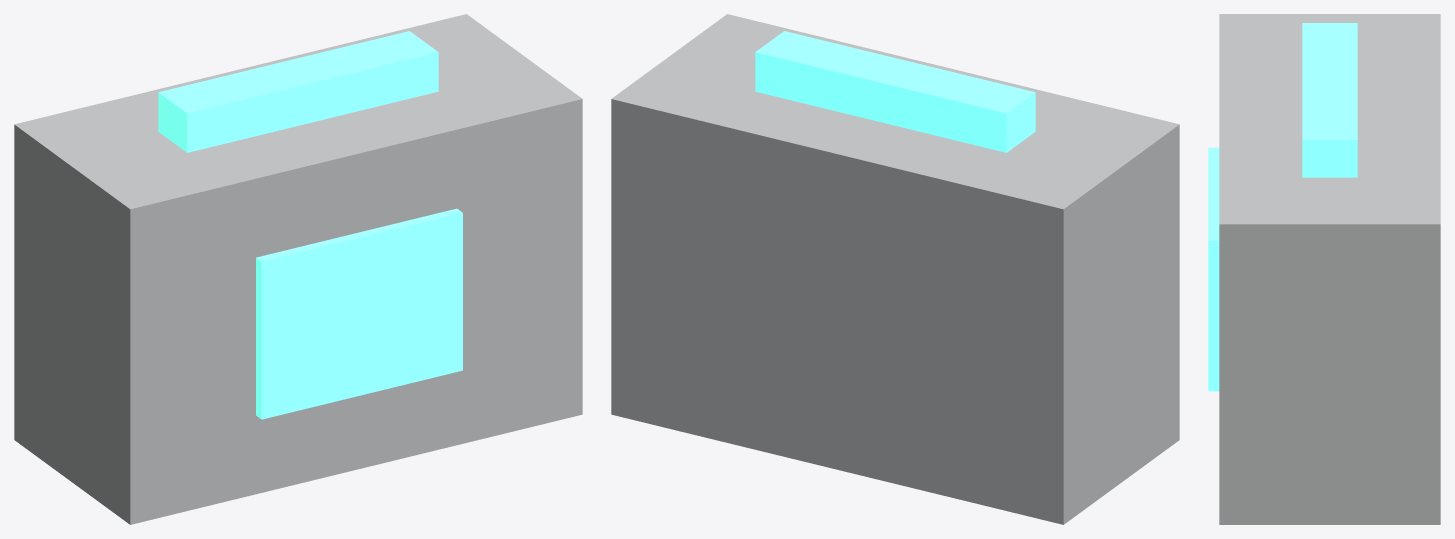
The model's file is item_F2_ReviveKit.glb.
3 renders of one model, left to right at view 1: azimuth 30°, elevation 25°; view 2: azimuth 150°, elevation 25°; view 3: azimuth 270°, elevation 25°, orthographic. The views are drawn at different scales.
Parts seen in each view (by area): view 1: Item_F2_ReviveKit; view 2: Item_F2_ReviveKit; view 3: Item_F2_ReviveKit.
Part boxes in pixels (bbox=[...]): Item_F2_ReviveKit: bbox=[14, 14, 582, 524]; Item_F2_ReviveKit: bbox=[611, 14, 1179, 524]; Item_F2_ReviveKit: bbox=[1208, 14, 1440, 524].
Size of the model in its own units: 0.18 by 0.135 by 0.084.
